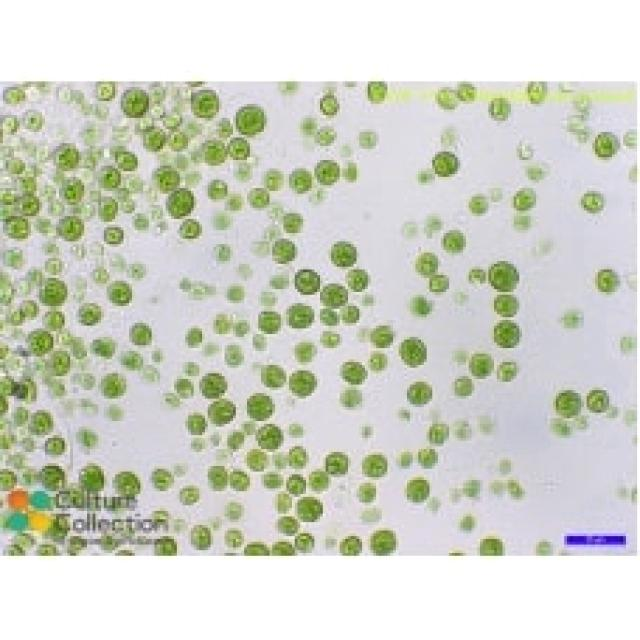Green Algae: (489, 258, 522, 292), (39, 275, 70, 309), (491, 320, 528, 348), (553, 385, 584, 418), (312, 154, 342, 188), (191, 87, 222, 118), (202, 460, 230, 494), (340, 357, 370, 388), (236, 104, 266, 135), (163, 188, 196, 216), (289, 162, 317, 194), (320, 280, 348, 312), (252, 309, 284, 337), (202, 134, 230, 166), (205, 398, 239, 424), (78, 463, 104, 497), (171, 216, 205, 242), (592, 129, 620, 160), (494, 292, 525, 320), (120, 84, 148, 115), (146, 466, 177, 494), (56, 214, 87, 242), (402, 337, 429, 368), (482, 95, 514, 121), (286, 300, 318, 326), (50, 143, 82, 169), (115, 469, 140, 502), (328, 238, 359, 264), (295, 266, 320, 298), (432, 149, 460, 177), (592, 264, 620, 292), (407, 379, 435, 407), (404, 477, 432, 505), (289, 368, 317, 396), (362, 452, 390, 480), (323, 449, 351, 477), (256, 421, 284, 449), (466, 351, 497, 376), (441, 225, 468, 252), (511, 185, 539, 211), (200, 373, 228, 399), (129, 320, 155, 348), (98, 370, 126, 396), (435, 82, 460, 110), (258, 362, 286, 387), (247, 396, 275, 421), (112, 149, 140, 174), (188, 522, 213, 550), (106, 281, 134, 306), (174, 374, 199, 402), (42, 463, 67, 491), (143, 124, 166, 154), (578, 191, 609, 213), (410, 253, 441, 275), (51, 348, 73, 379), (370, 530, 396, 556), (244, 446, 270, 472), (427, 418, 452, 444), (180, 325, 205, 351), (494, 359, 519, 385), (589, 388, 612, 416), (412, 446, 440, 469), (3, 216, 31, 239), (98, 194, 121, 222), (469, 194, 494, 219), (354, 480, 379, 505), (154, 166, 182, 188), (20, 107, 48, 129), (452, 374, 474, 402), (345, 269, 371, 292), (230, 137, 253, 163), (286, 443, 309, 469), (78, 303, 104, 326), (230, 466, 253, 491), (28, 331, 53, 354), (317, 93, 343, 115), (272, 239, 298, 261), (370, 326, 396, 348), (337, 536, 365, 556), (31, 410, 56, 432), (62, 174, 84, 199), (480, 536, 505, 556), (365, 81, 390, 101), (300, 497, 320, 522), (42, 435, 67, 455), (340, 300, 359, 326), (208, 177, 230, 199), (20, 194, 42, 216), (292, 343, 317, 362), (286, 474, 309, 494), (460, 76, 478, 101), (250, 185, 269, 208), (278, 517, 300, 536), (429, 278, 452, 295), (284, 211, 303, 230), (104, 222, 123, 241)
